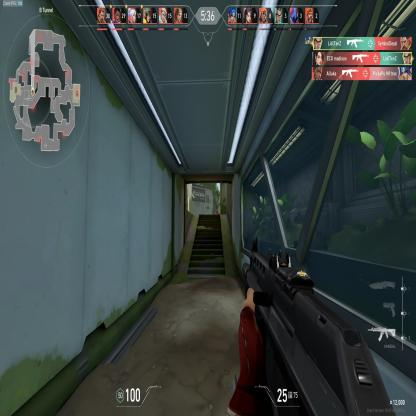enemy: (216, 208, 219, 214)
